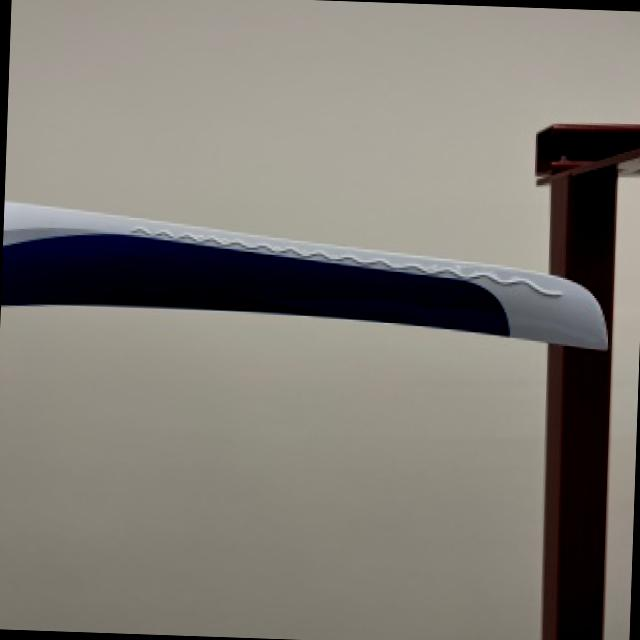healthy: (0, 200, 605, 346)
